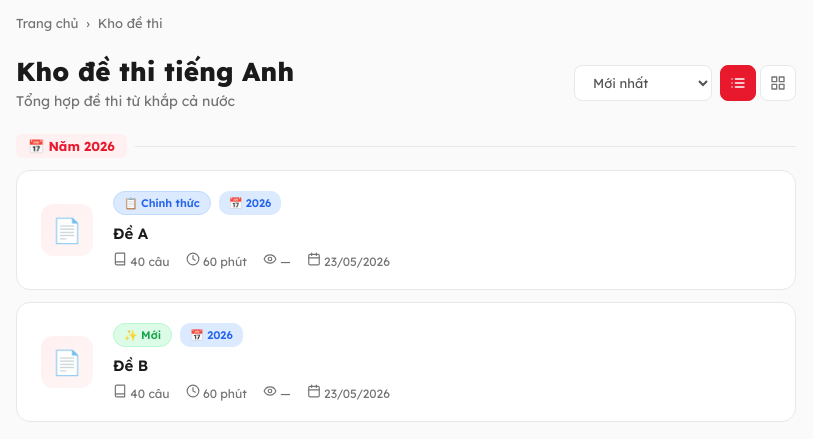
Test case: KhoDeThiClient › view toggle changes layout class (local state, no push)
The image size is (813, 439).
What coordinates should you click on to do the following:
click the button named "Hiển thị dạng lưới"
I would click on:
 (778, 82)
Its box is x1=760 y1=64 x2=796 y2=100.
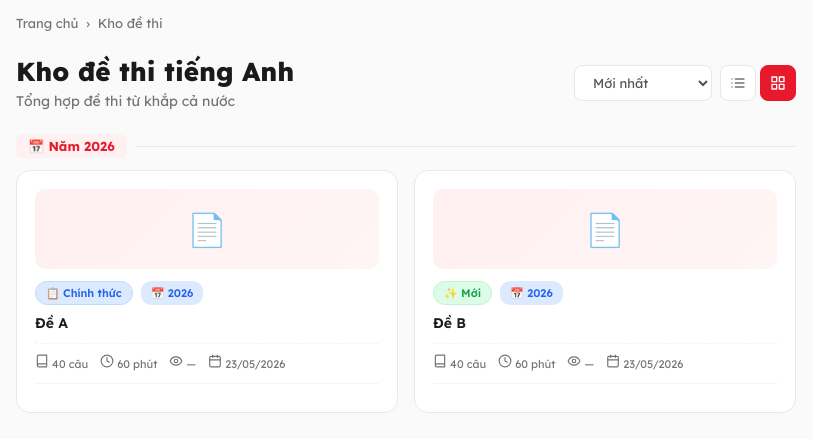
Check: the element with class "is-grid" is shown, box x1=16 y1=170 x2=796 y2=413
